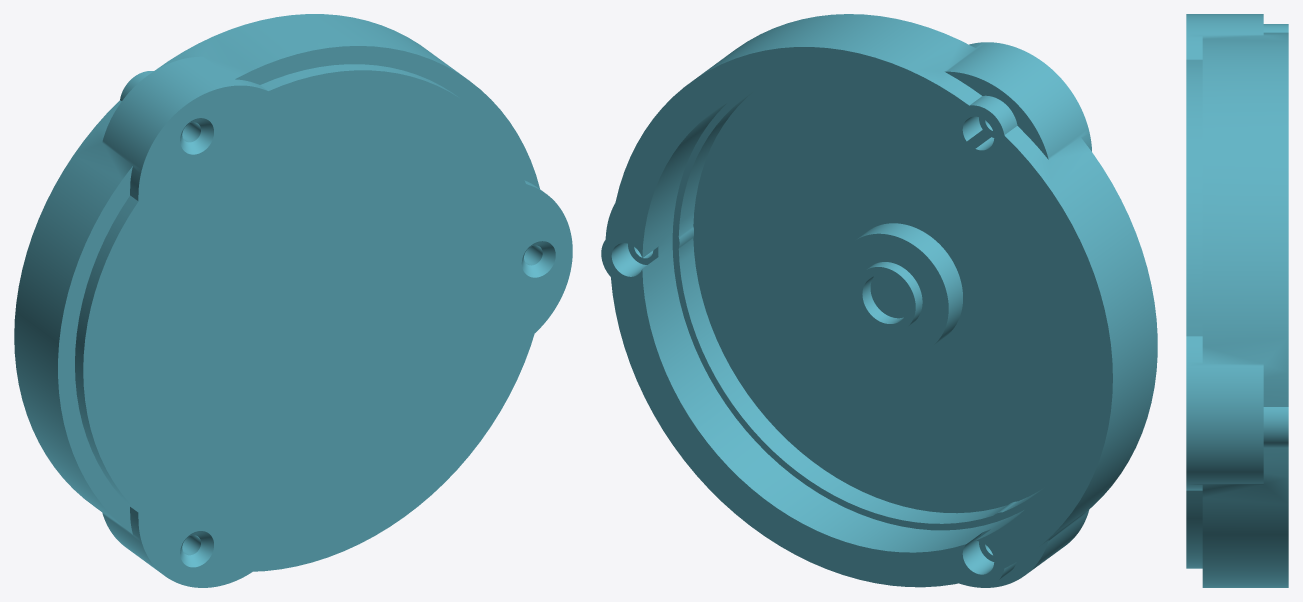
File: Cap_rounded_triangle.glb
3 renders of one model, left to right at view 1: azimuth 30°, elevation 25°; view 2: azimuth 150°, elevation 25°; view 3: azimuth 270°, elevation 25°, orthographic. The views are drawn at different scales.
Visible parts, largest first — view 1: Cap_rounded_triangle_0; view 2: Cap_rounded_triangle_0; view 3: Cap_rounded_triangle_0.
Boxes of the visible parts, <box> form: Cap_rounded_triangle_0: <box>14,14,572,587</box>; Cap_rounded_triangle_0: <box>601,14,1157,587</box>; Cap_rounded_triangle_0: <box>1186,14,1288,587</box>.
Bounding box in the file's own units: 59.6 × 57.6 × 10.6.
